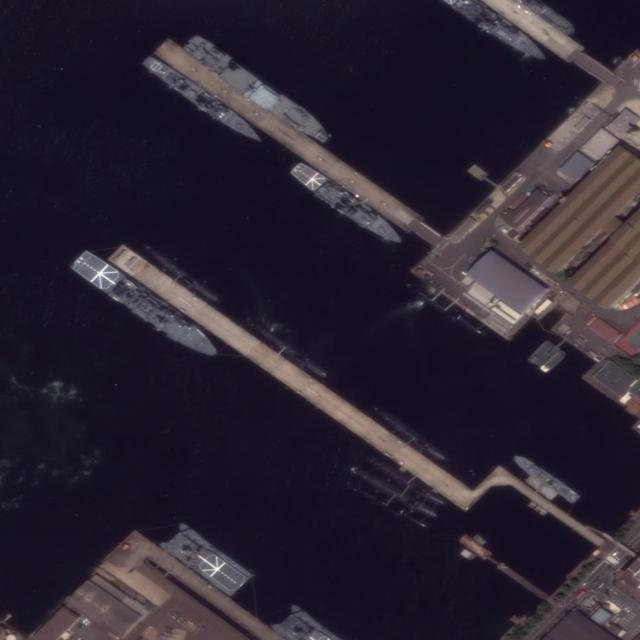Auxiliary Ships: (184, 32, 334, 145), (160, 520, 252, 599)
Destroyer: (67, 244, 226, 364), (140, 52, 264, 148), (288, 158, 405, 250)
Dock: (110, 242, 480, 514), (154, 36, 446, 253)
Other Warship: (511, 449, 581, 507)
Submarine: (347, 464, 438, 520), (405, 280, 483, 337), (148, 248, 221, 306), (372, 407, 447, 463), (367, 456, 445, 508), (343, 482, 427, 529), (257, 325, 326, 378)
